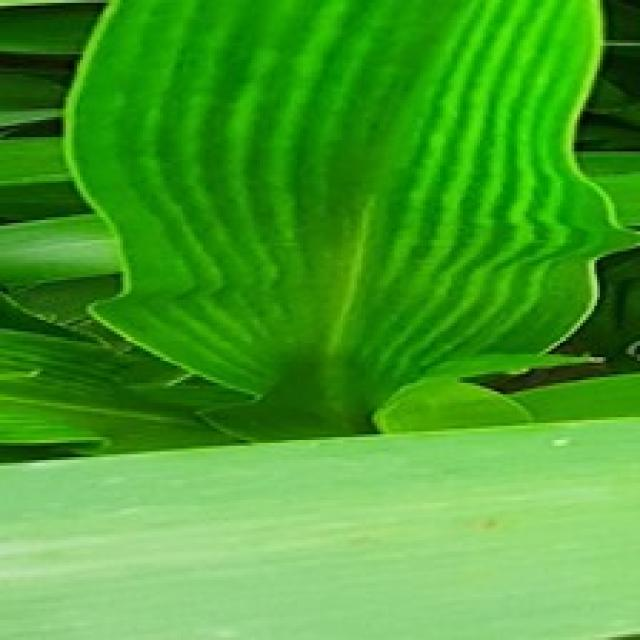Corn: (0, 0, 637, 637), (0, 394, 637, 637)
